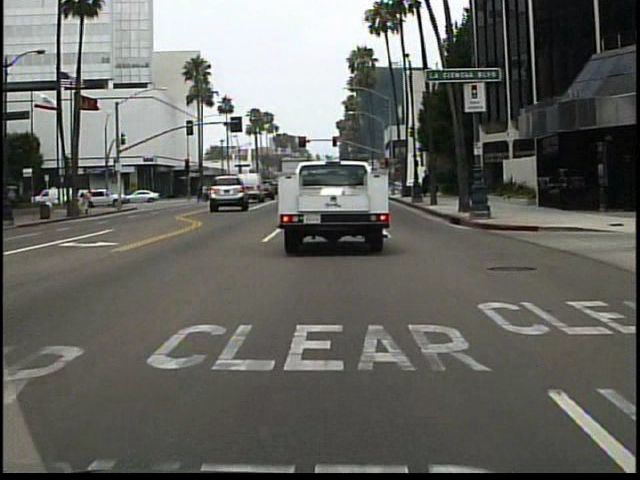person: (85, 187, 98, 213)
